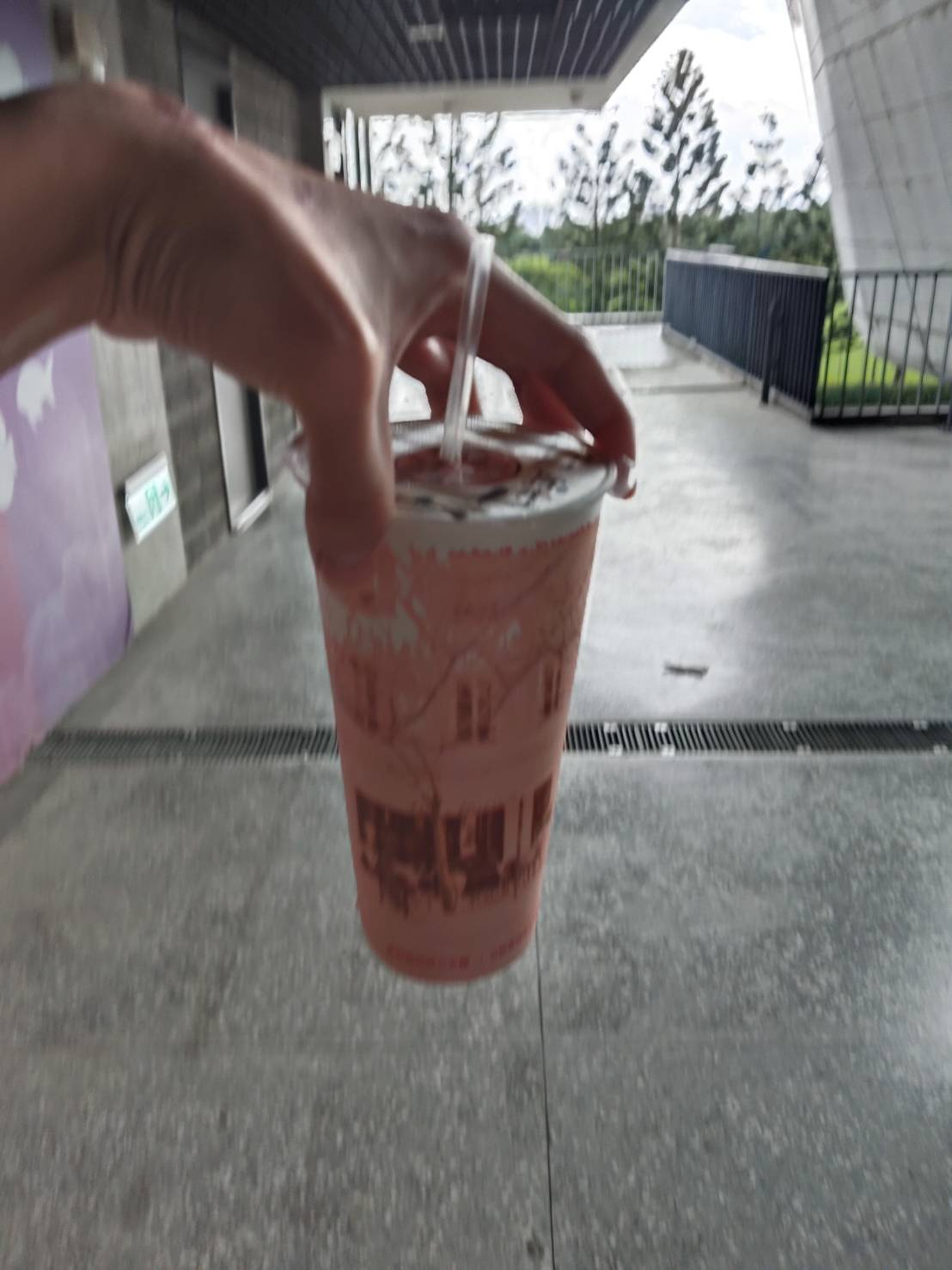paper: (242, 365, 675, 1008)
plastic: (435, 210, 503, 478)
